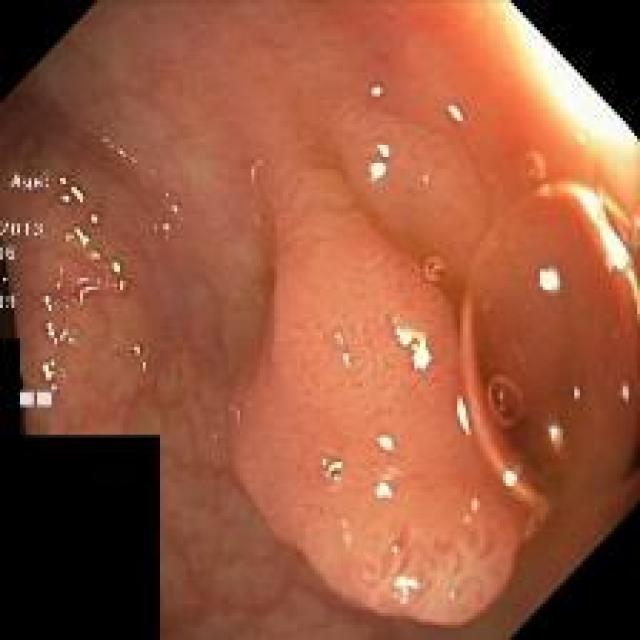Polyps: (230, 170, 540, 625)
